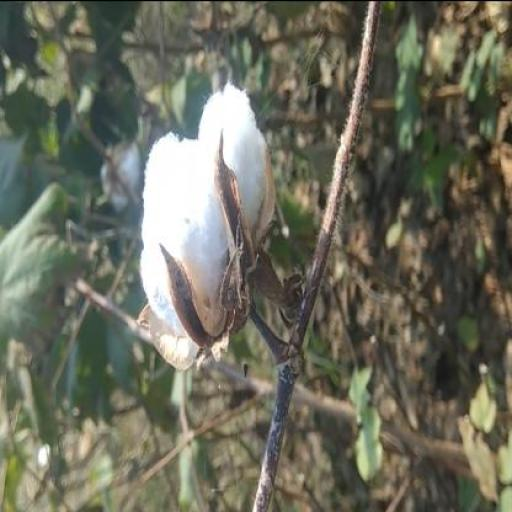cotton_ready: (128, 80, 316, 383)
